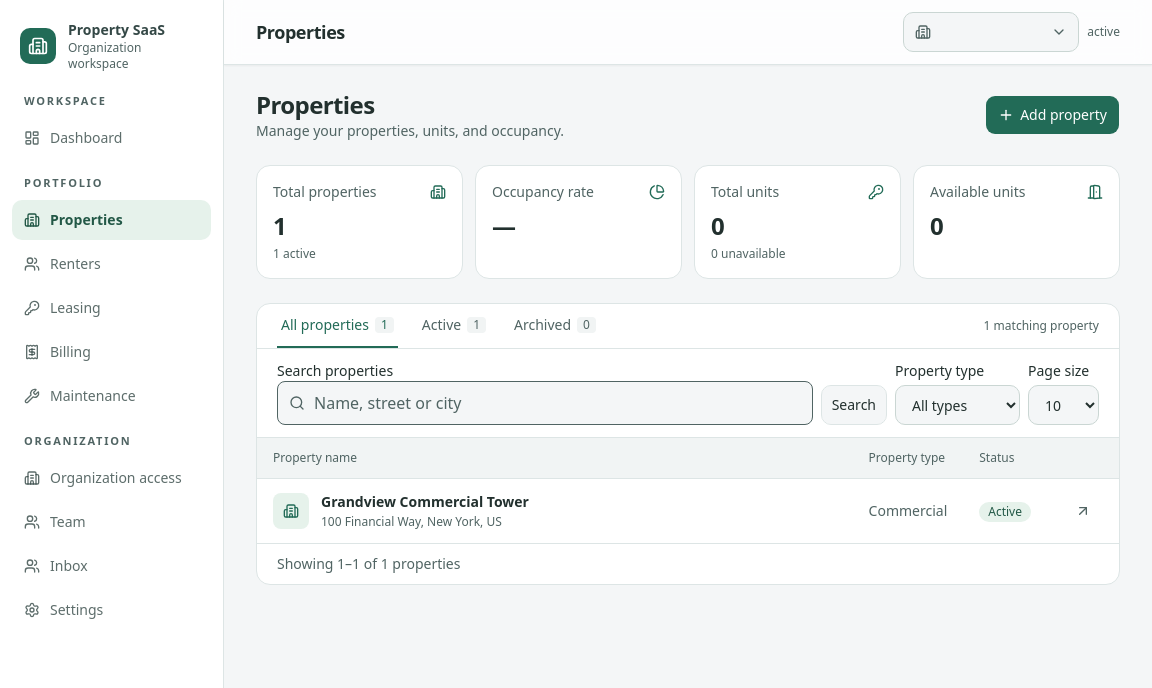
Test: navigates to Dashboard and marks only that destination active
Click the link "Dashboard".
click(73, 137)  # box [24,128,122,147]
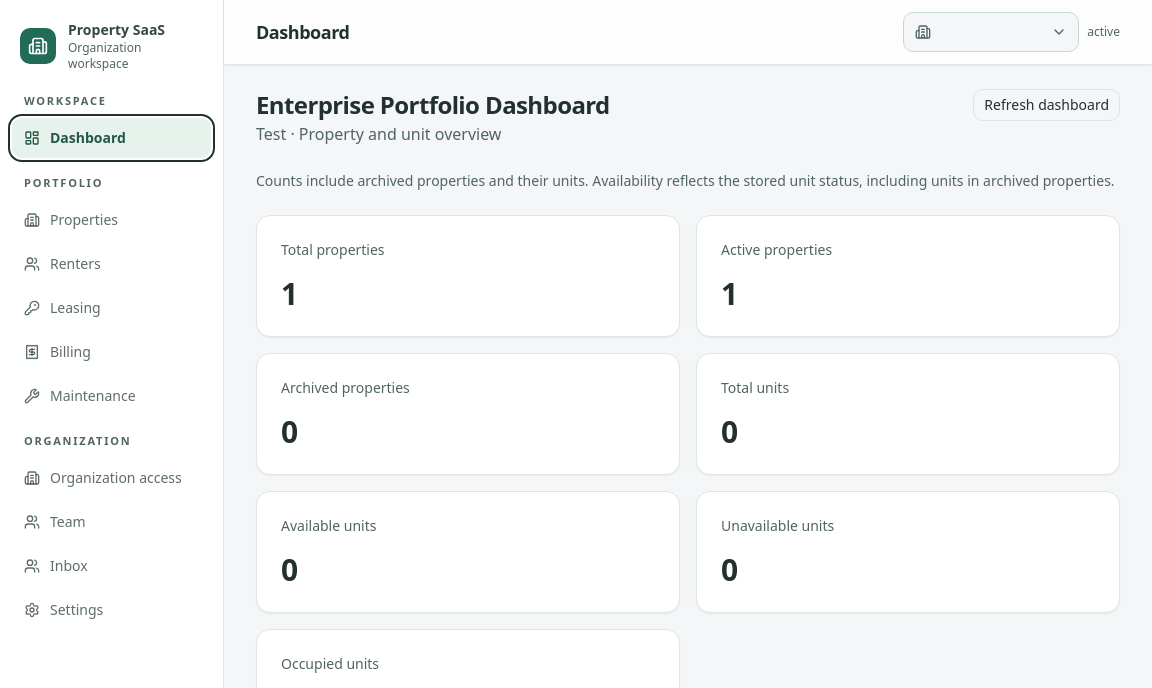
Expected: the heading "Enterprise Portfolio Dashboard" is shown, [256,89,610,121]
Expected: the heading "Dashboard" is shown, [256,18,350,46]
